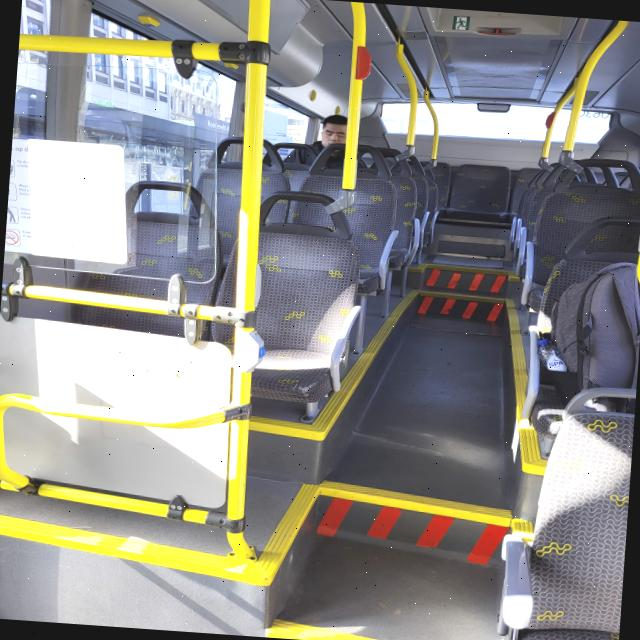empty-seat-frontal: (206, 183, 376, 411), (518, 375, 636, 640), (446, 156, 516, 224)
